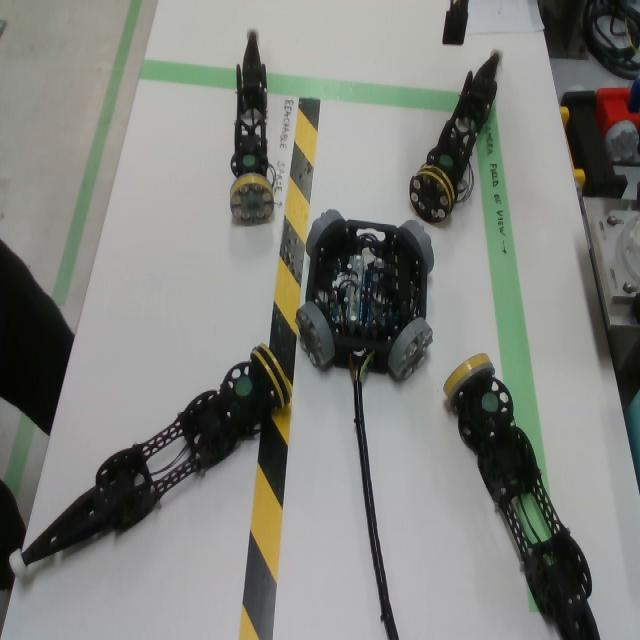body: (306, 221, 427, 375)
body_connector: (387, 317, 433, 381), (295, 301, 336, 371), (399, 220, 434, 275), (306, 209, 344, 256)
leg: (10, 343, 292, 579), (443, 353, 601, 640), (409, 45, 505, 224), (230, 25, 275, 224)
leg_connector: (443, 353, 496, 411), (250, 343, 294, 408), (410, 164, 456, 224), (230, 173, 274, 224)
leg_marker: (235, 376, 253, 397), (481, 392, 499, 413), (440, 154, 453, 165), (243, 155, 255, 166)
